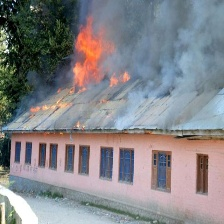fire: (68, 16, 132, 93), (30, 101, 74, 112), (54, 87, 75, 96), (75, 121, 84, 128)
smoke: (22, 1, 224, 89)
